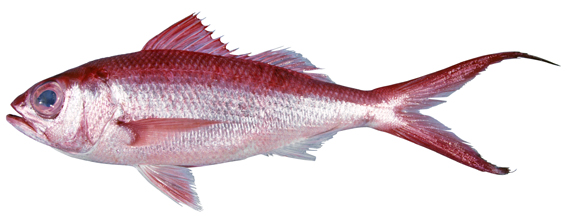fish: (5, 11, 562, 213)
